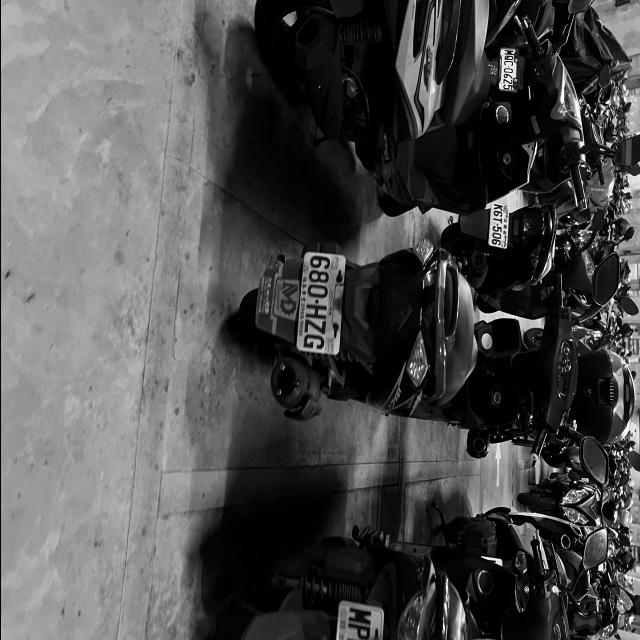-: (314, 298, 320, 304), (495, 223, 498, 226), (506, 66, 508, 68)
0: (306, 284, 328, 298), (490, 233, 500, 239), (502, 68, 512, 74)
2: (502, 79, 512, 84)
5: (491, 226, 501, 232), (502, 84, 512, 90)
6: (308, 256, 330, 268), (490, 240, 500, 246), (492, 211, 502, 217), (502, 74, 512, 78)
8: (308, 270, 330, 284)
C: (502, 60, 512, 66)
G: (302, 336, 326, 350)
H: (305, 304, 327, 318)
K: (492, 204, 502, 211)
M: (348, 609, 372, 623), (503, 50, 513, 55)
P: (347, 622, 370, 640)
Q: (503, 56, 513, 60)
T: (492, 218, 502, 224)
Z: (302, 320, 326, 334)
plate: (296, 255, 346, 355), (498, 49, 518, 91), (490, 204, 506, 248)
